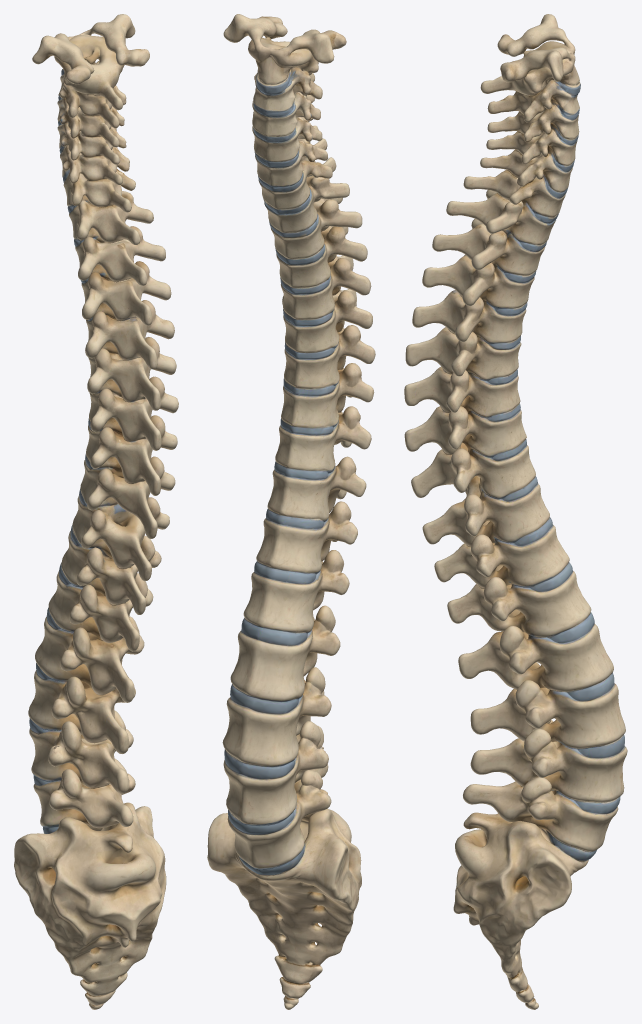
The model's file is spine.glb.
The picture shows the model from 3 angles, left to right: view 1: azimuth 30°, elevation 25°; view 2: azimuth 150°, elevation 25°; view 3: azimuth 270°, elevation 25°; orthographic projection.
Parts seen in each view (by area): view 1: human-spine; view 2: human-spine; view 3: human-spine.
Boxes of the visible parts, x1,y1,x2,y2 form: human-spine: (14,14,178,1009); human-spine: (207,14,375,1009); human-spine: (404,14,627,1009).
Bounding box in the file's own units: 0.0996 × 0.7199 × 0.1492.
Materials: 1 (1 with a texture image).
